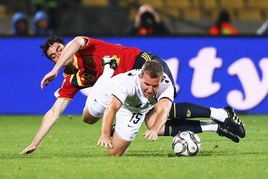falling: (75, 54, 246, 158)
